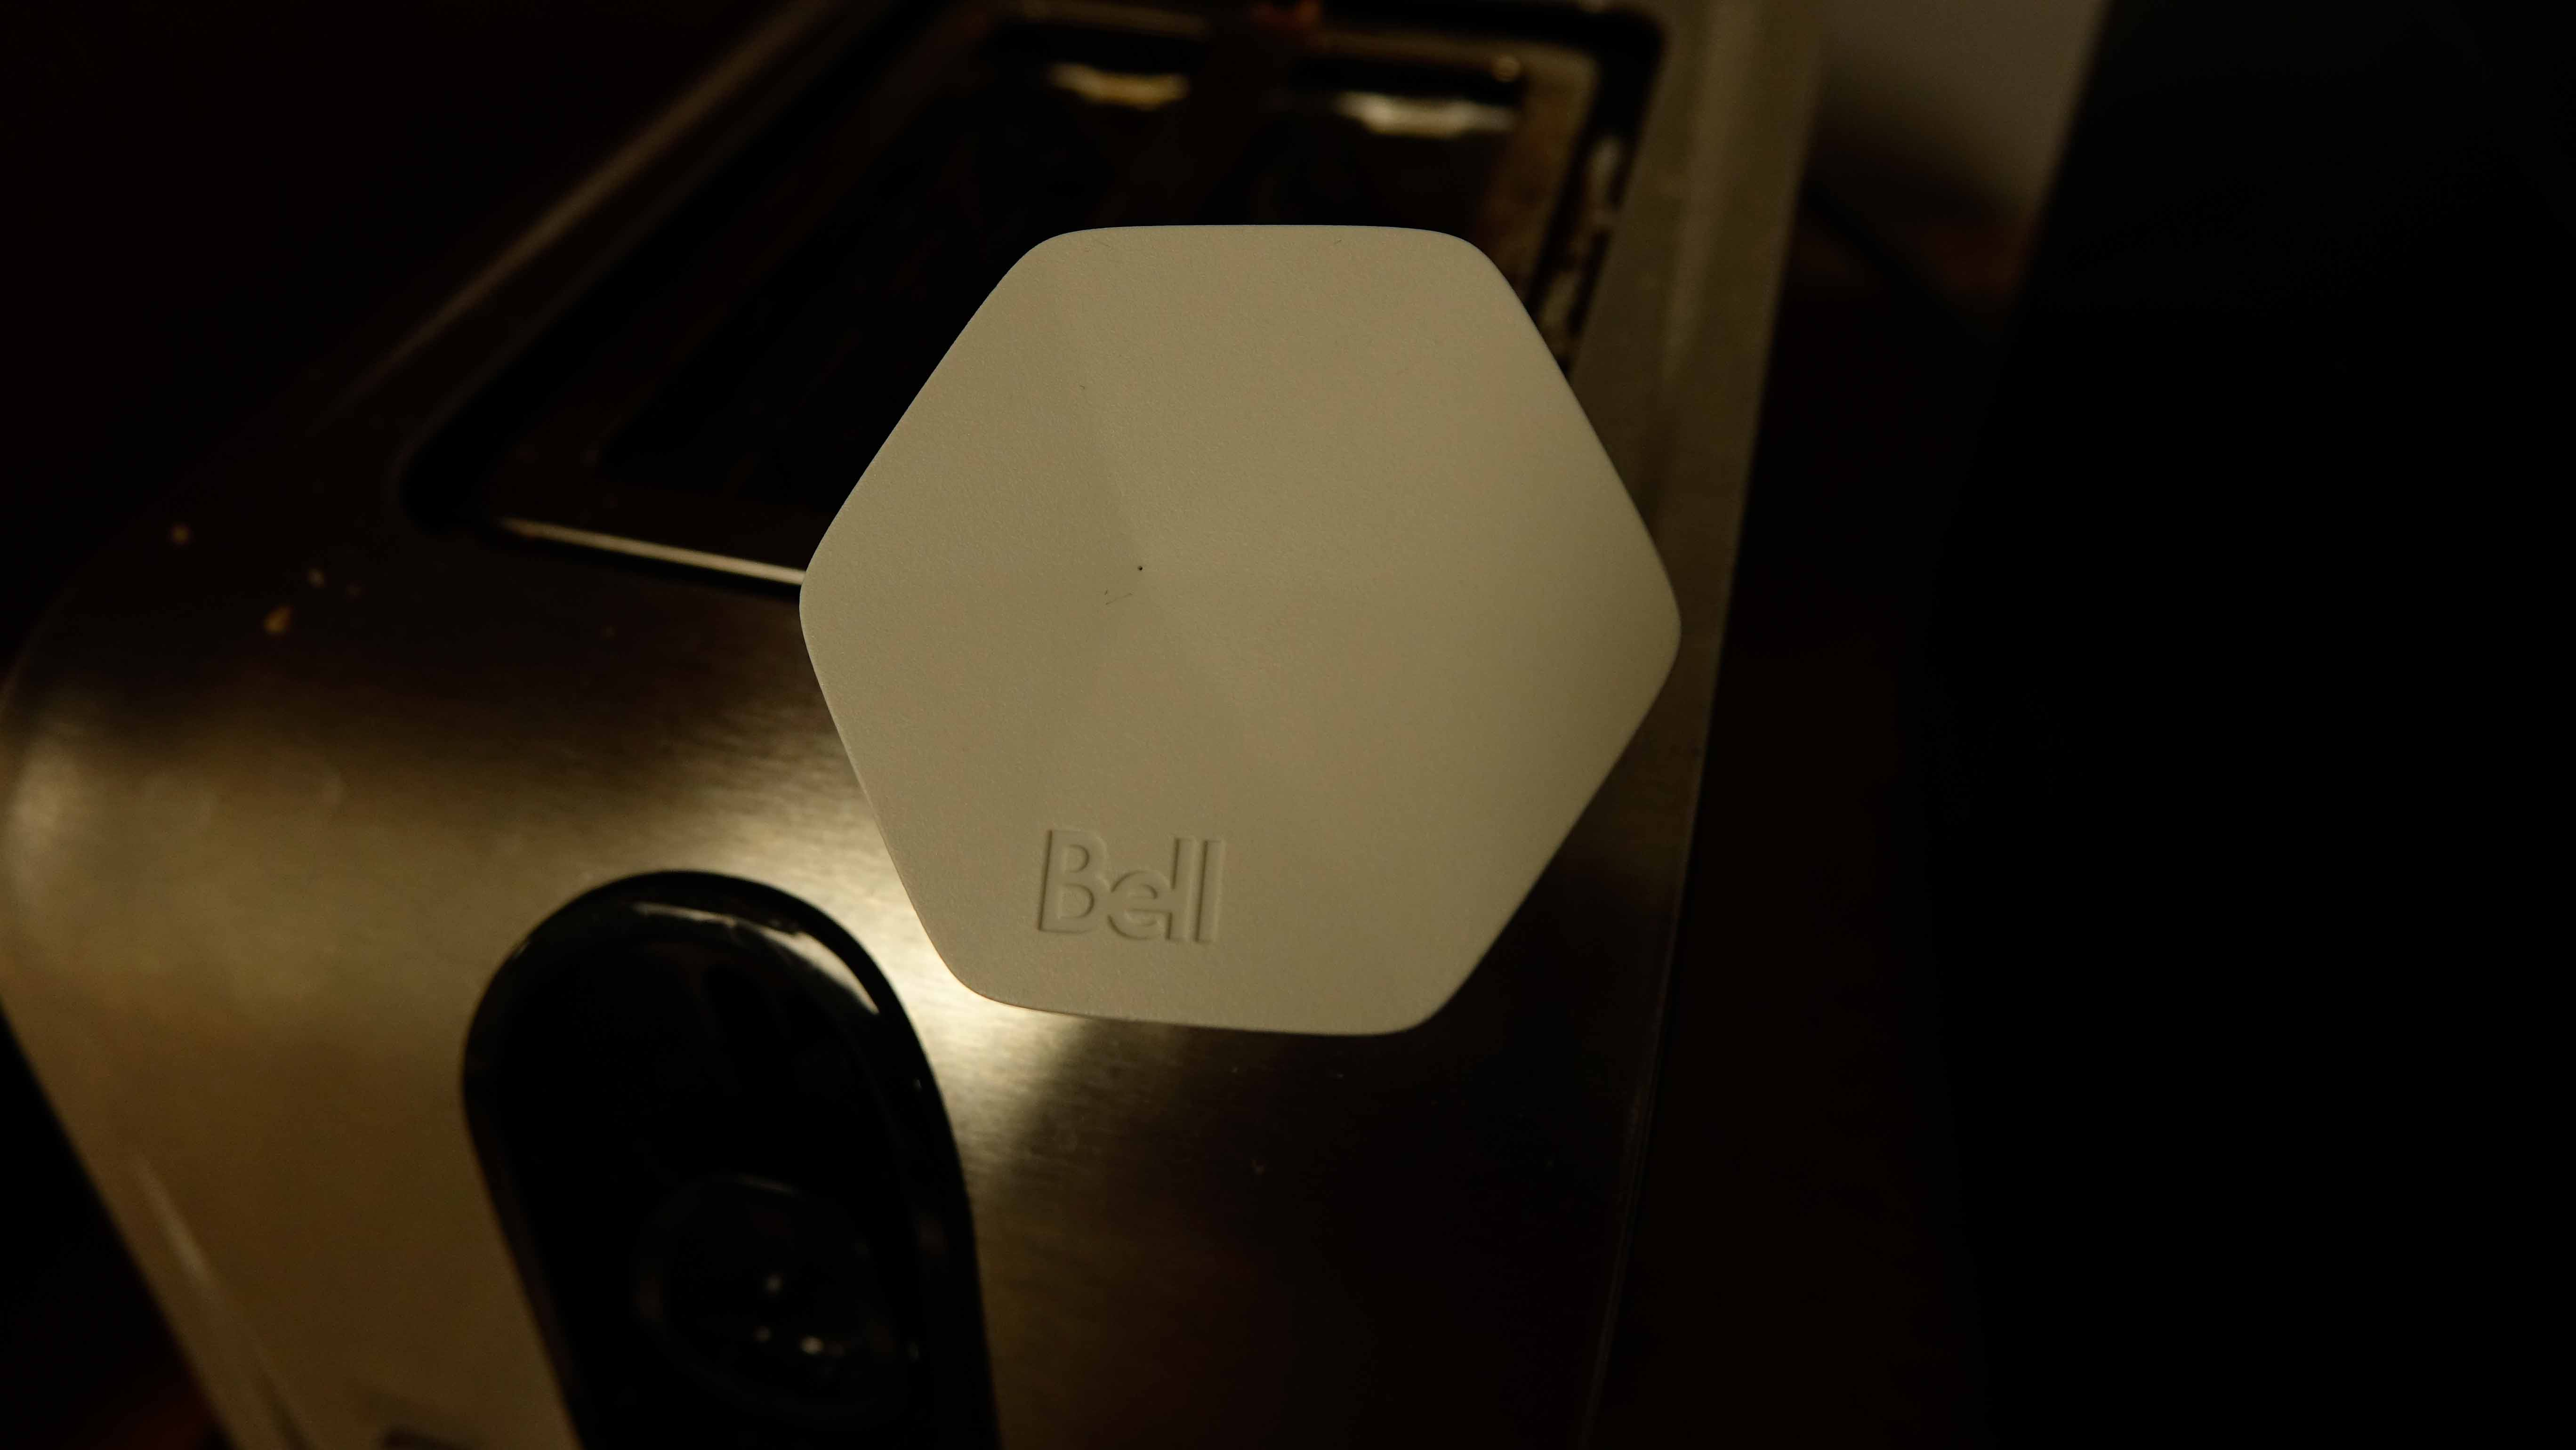pod: (782, 216, 1695, 1049)
